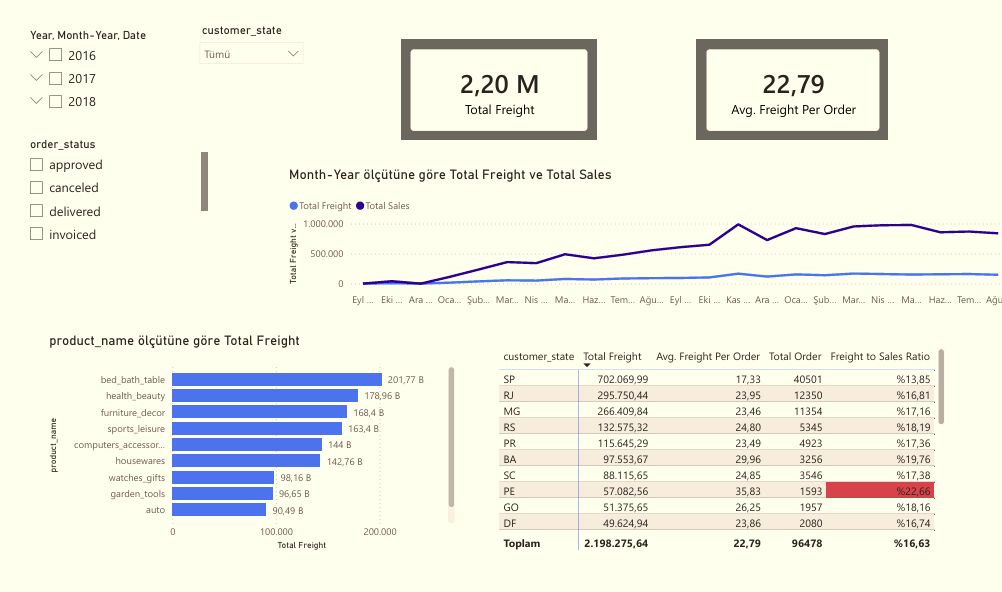

What the dashboard file says about the page in this screenshot:
{"tool":"powerbi","page":{"name":"LOJİSTİK&KARGO","canvas":[1280,720],"ordinal":2},"visuals":[{"type":"cardVisual","fields":{"Data":["#Measure.Total Freight"]},"box":[490,46.7,255,136.7],"z":0},{"type":"cardVisual","fields":{"Data":["#Measure.Avg. Freight Per Order"]},"box":[860,46.7,250,136.7],"z":1000},{"type":"pivotTable","fields":{"Rows":["DimCustomer.customer_state"],"Values":["#Measure.Total Freight","#Measure.Avg. Freight Per Order","#Measure.Total Order","#Measure.Freight to Sales Ratio"]},"box":[613.3,433.3,566.7,261.7],"z":2000},{"type":"clusteredBarChart","fields":{"Category":["DimProduct.product_name"],"Y":["#Measure.Total Freight"]},"box":[50,418.3,516.7,276.7],"z":3000},{"type":"lineChart","fields":{"Category":["DimDate.Month-Year"],"Y":["#Measure.Total Freight","#Measure.Total Sales"]},"box":[350,210,913.3,181.7],"z":4000},{"type":"slicer","fields":{"Values":["DimDate.Year","DimDate.Month-Year","DimDate.Date"]},"box":[18.3,33.3,263.3,150],"z":5000},{"type":"slicer","fields":{"Values":["FactSales.order_status"]},"box":[18.3,170,240,150],"z":6000},{"type":"slicer","fields":{"Values":["DimCustomer.customer_state"]},"box":[233.3,26.7,150,88.3],"z":7000}]}

Visuals, with their boxes on the page's 1280x720 design canvas (x1, y1, x2, y2). These are canvas units, not pixel positions in the 1002x592 screenshot, which may show the page scaled, cropped or inside an application window:
cardVisual - #Measure.Total Freight: pyautogui.locateOnScreen(490, 47, 745, 183)
cardVisual - #Measure.Avg. Freight Per Order: pyautogui.locateOnScreen(860, 47, 1110, 183)
pivotTable - DimCustomer.customer_state x #Measure.Total Freight: pyautogui.locateOnScreen(613, 433, 1180, 695)
clusteredBarChart - DimProduct.product_name x #Measure.Total Freight: pyautogui.locateOnScreen(50, 418, 567, 695)
lineChart - DimDate.Month-Year x #Measure.Total Freight: pyautogui.locateOnScreen(350, 210, 1263, 392)
slicer - DimDate.Year x DimDate.Month-Year: pyautogui.locateOnScreen(18, 33, 282, 183)
slicer - FactSales.order_status: pyautogui.locateOnScreen(18, 170, 258, 320)
slicer - DimCustomer.customer_state: pyautogui.locateOnScreen(233, 27, 383, 115)
